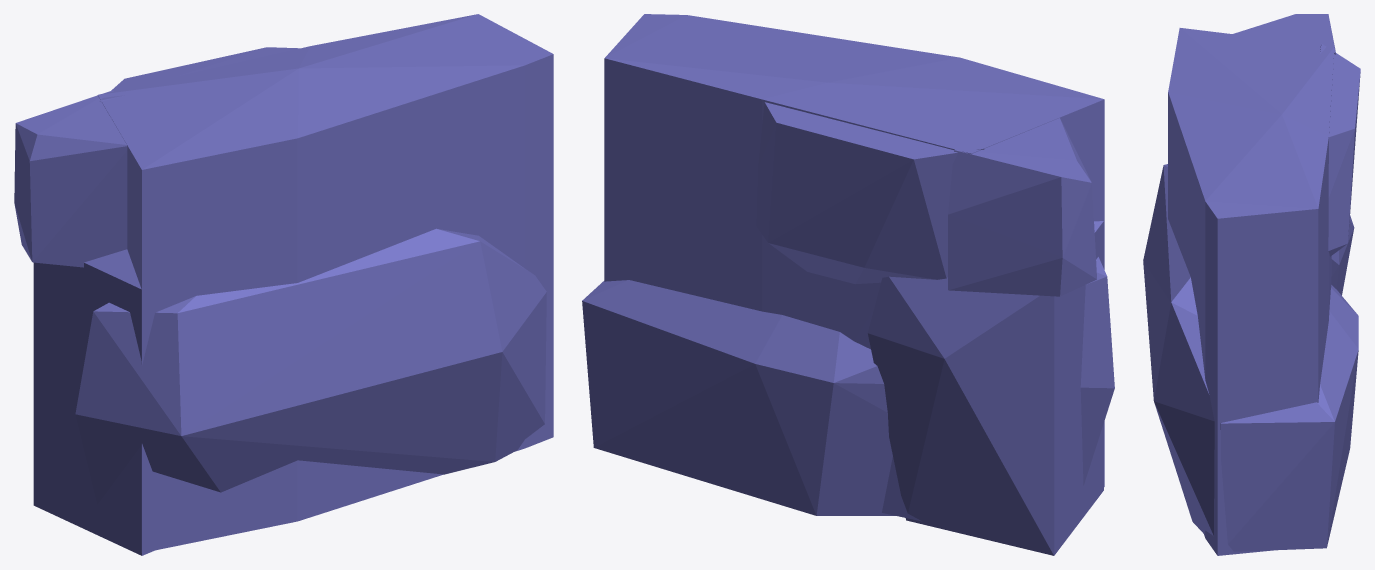
The model's file is Cliff_Sediment_03_Collider_01.FBX.
3 renders of one model, left to right at view 1: azimuth 30°, elevation 25°; view 2: azimuth 150°, elevation 25°; view 3: azimuth 270°, elevation 25°, orthographic. The views are drawn at different scales.
Parts seen in each view (by area): view 1: COLLIDER1, COLLIDER3, COLLIDER5, COLLIDER2, COLLIDER4; view 2: COLLIDER1, COLLIDER3, COLLIDER5, COLLIDER4, COLLIDER2; view 3: COLLIDER1, COLLIDER3, COLLIDER4, COLLIDER2, COLLIDER5.
Part boxes in pixels (x1=…): COLLIDER1: x1=97, y1=14, x2=553, y2=552; COLLIDER3: x1=75, y1=228, x2=546, y2=504; COLLIDER5: x1=33, y1=249, x2=153, y2=555; COLLIDER2: x1=14, y1=90, x2=127, y2=267; COLLIDER4: x1=100, y1=47, x2=299, y2=101; COLLIDER1: x1=604, y1=14, x2=1104, y2=521; COLLIDER3: x1=582, y1=257, x2=1114, y2=515; COLLIDER5: x1=867, y1=221, x2=1103, y2=555; COLLIDER4: x1=756, y1=102, x2=984, y2=284; COLLIDER2: x1=948, y1=118, x2=1096, y2=296; COLLIDER1: x1=1168, y1=28, x2=1334, y2=555; COLLIDER3: x1=1143, y1=164, x2=1358, y2=551; COLLIDER4: x1=1320, y1=43, x2=1360, y2=256; COLLIDER2: x1=1233, y1=14, x2=1335, y2=54; COLLIDER5: x1=1331, y1=215, x2=1354, y2=295.
Bounding box in the file's own units: 482 × 384 × 213.
